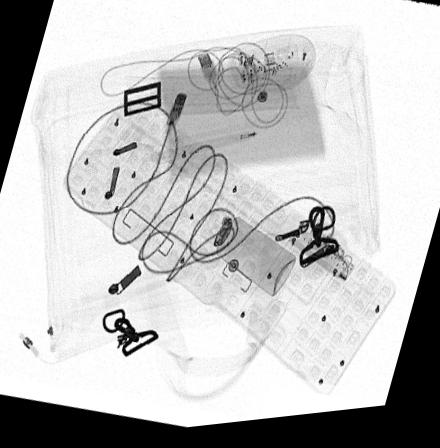Sprayer: (199, 215, 295, 303)
